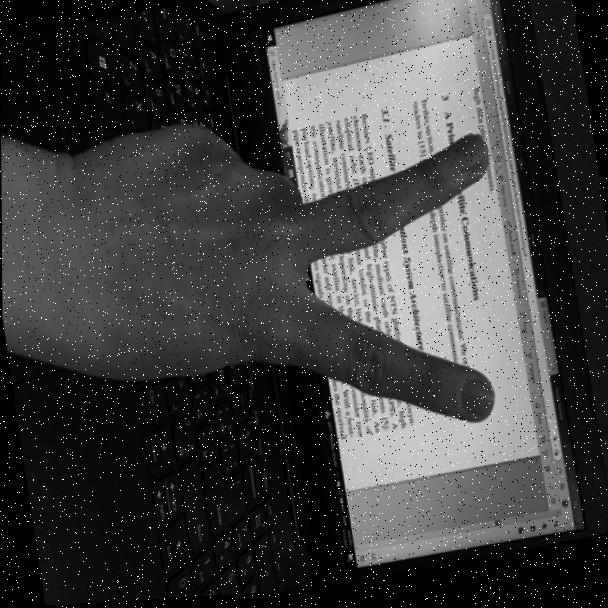two: (60, 75, 529, 507)
